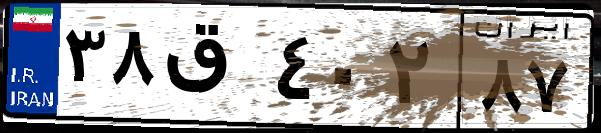0: (330, 28, 385, 110)
2: (385, 28, 445, 110)
3: (57, 26, 110, 100)
4: (270, 28, 330, 110)
7: (525, 38, 570, 115)
8: (475, 38, 525, 113), (110, 28, 158, 98)
ق: (158, 20, 270, 120)
